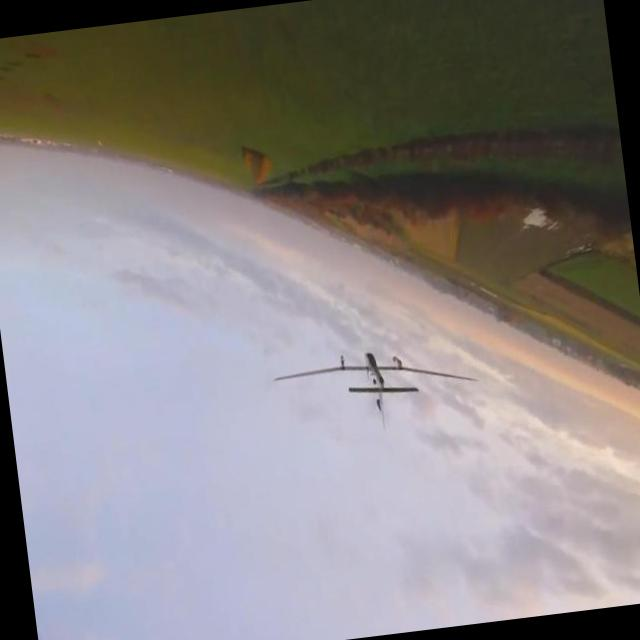UAV: (278, 316, 466, 429)
